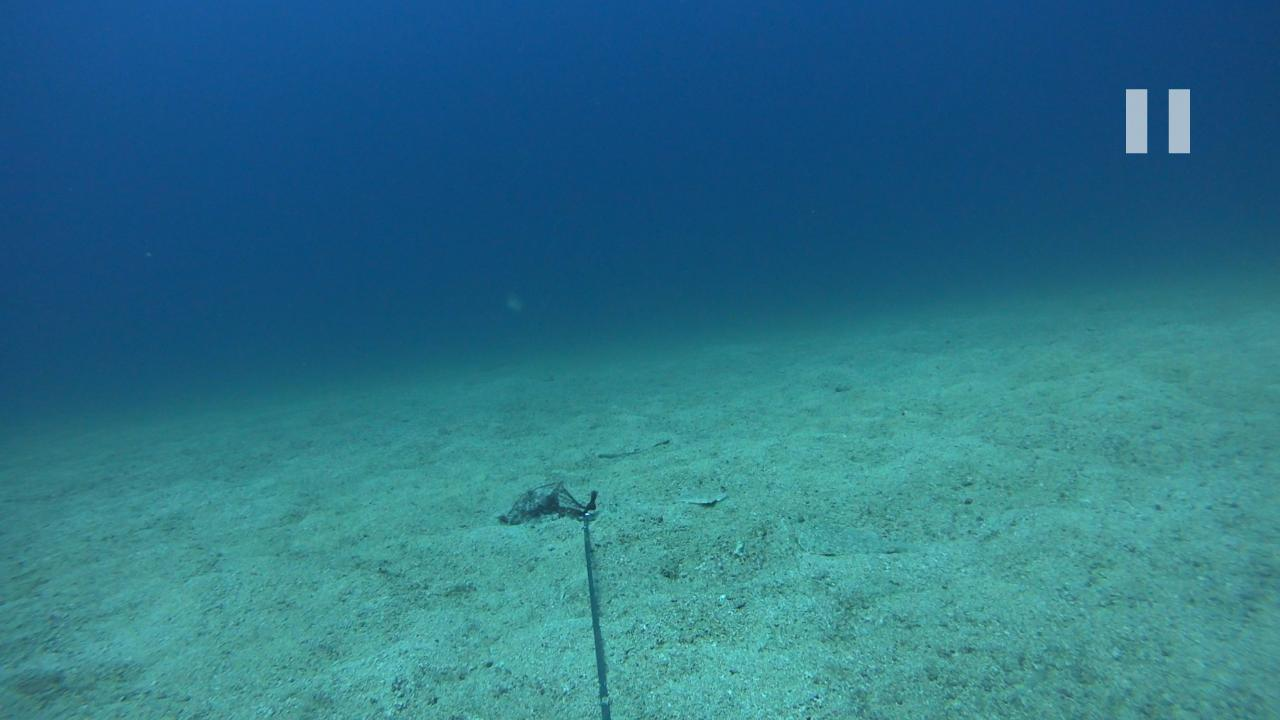bothus: (794, 516, 902, 560), (660, 482, 736, 506)
